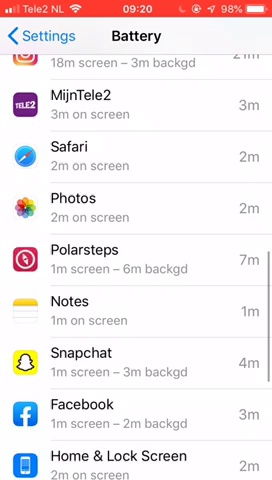app: (10, 85, 263, 125), (12, 138, 265, 178), (13, 186, 266, 226), (11, 241, 264, 281), (10, 289, 263, 329), (8, 342, 261, 382), (11, 393, 264, 433), (10, 440, 263, 480)
